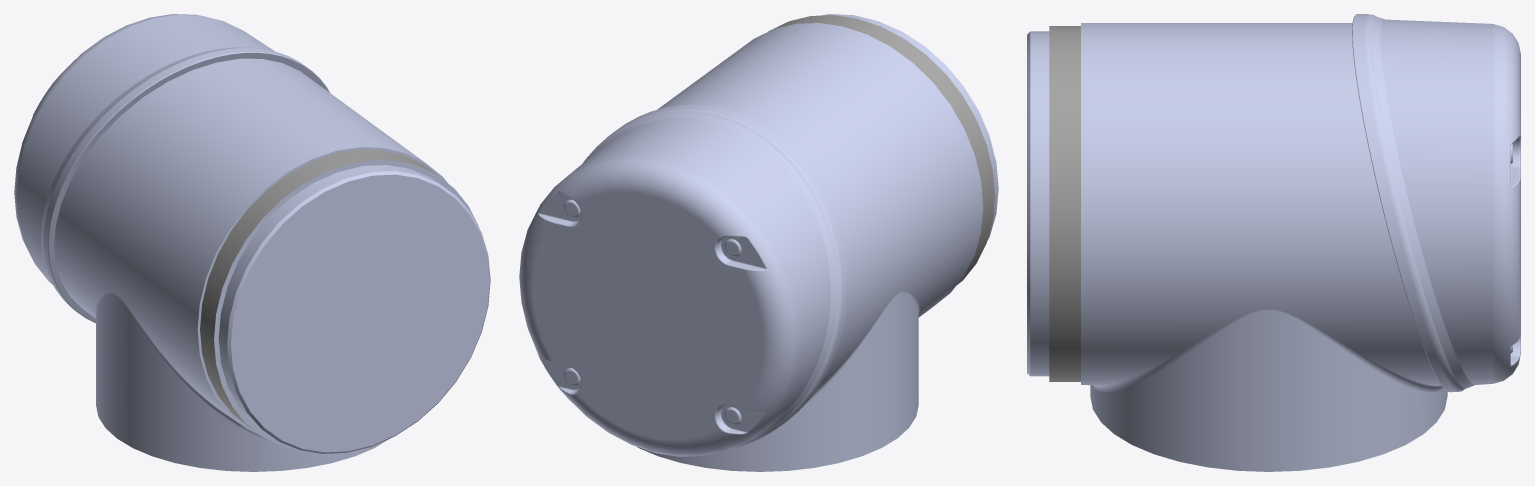
3 renders of one model, left to right at view 1: azimuth 30°, elevation 25°; view 2: azimuth 150°, elevation 25°; view 3: azimuth 270°, elevation 25°, orthographic. The views are drawn at different scales.
Parts seen in each view (by area): view 1: FBXASC195FBXASC141FBXASC194FBXASC185FBXASC195FBXASC140FBXASC; view 2: FBXASC195FBXASC141FBXASC194FBXASC185FBXASC195FBXASC140FBXASC; view 3: FBXASC195FBXASC141FBXASC194FBXASC185FBXASC195FBXASC140FBXASC.
Boxes of the visible parts, box(x1,y1,x2,y2) form: FBXASC195FBXASC141FBXASC194FBXASC185FBXASC195FBXASC140FBXASC: box(14, 14, 490, 471); FBXASC195FBXASC141FBXASC194FBXASC185FBXASC195FBXASC140FBXASC: box(519, 14, 998, 471); FBXASC195FBXASC141FBXASC194FBXASC185FBXASC195FBXASC140FBXASC: box(1027, 14, 1520, 471).
Bounding box in the file's own units: 0.1229 × 0.1603 × 0.1307.
